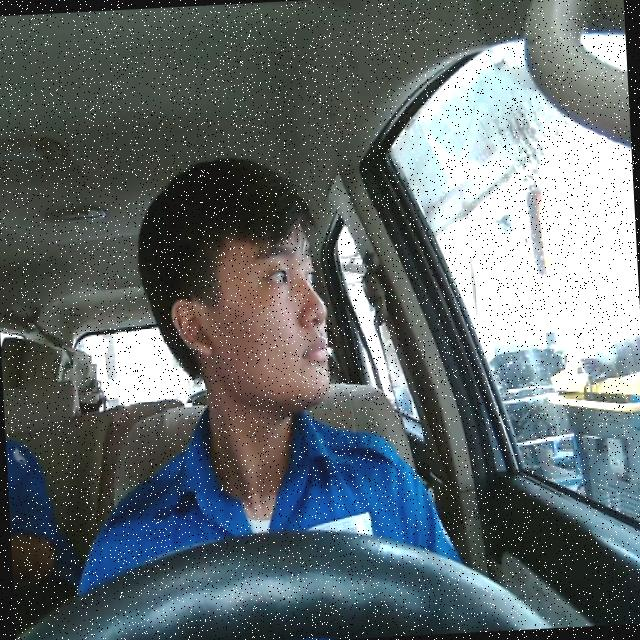seeing_right: (164, 204, 336, 412)
